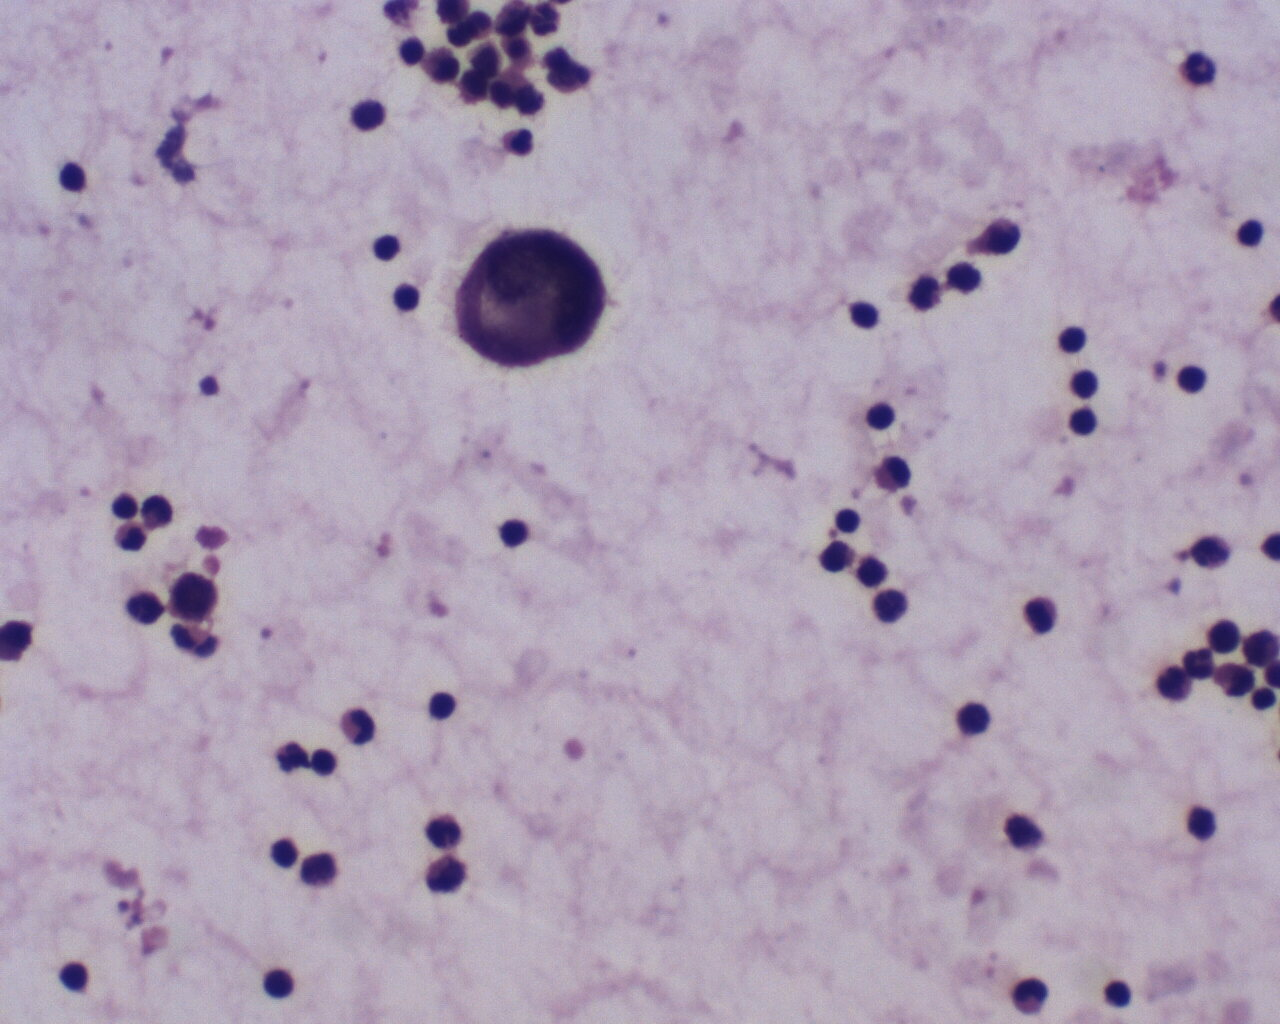ab: (448, 224, 609, 370)
lymph: (345, 98, 400, 134), (1019, 592, 1061, 638), (491, 514, 538, 554), (1205, 616, 1248, 659), (259, 964, 303, 1004), (1231, 212, 1273, 253), (863, 397, 905, 436), (366, 227, 408, 265), (950, 698, 993, 735), (1184, 801, 1220, 842), (1171, 356, 1207, 397), (846, 295, 882, 334), (267, 836, 303, 875), (54, 957, 89, 997), (1057, 321, 1092, 359), (1065, 405, 1101, 441), (834, 501, 865, 537)
neutro: (1006, 968, 1056, 1017), (339, 703, 381, 750), (1177, 48, 1221, 89), (497, 125, 534, 159)
